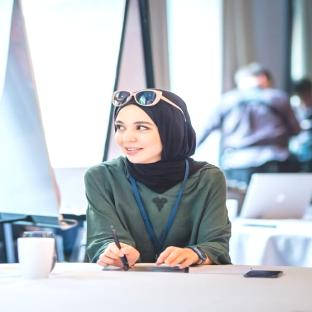Human: (86, 89, 231, 269)
